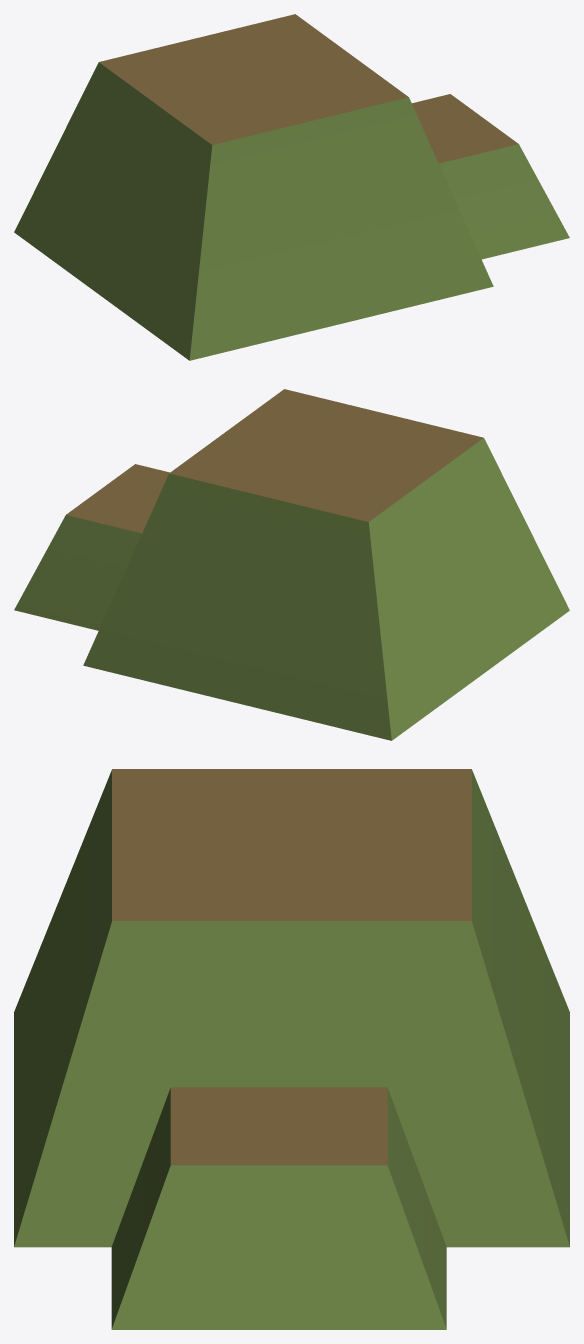
The model's file is SM_Env_Rock_Brown_03.gltf.
The picture shows the model from 3 angles, top to bottom: view 1: azimuth 30°, elevation 25°; view 2: azimuth 150°, elevation 25°; view 3: azimuth 270°, elevation 25°; orthographic projection. The views are drawn at different scales.
Parts seen in each view (by area): view 1: SM_Env_Rock_Brown_03; view 2: SM_Env_Rock_Brown_03; view 3: SM_Env_Rock_Brown_03.
Part boxes in pixels (x1,y1,x2,y2): SM_Env_Rock_Brown_03: (14, 14, 569, 360); SM_Env_Rock_Brown_03: (14, 389, 569, 740); SM_Env_Rock_Brown_03: (14, 769, 569, 1329).
Size of the model in its own units: 1.44 by 0.6003 by 1.06.
1 material, 1 textured.
